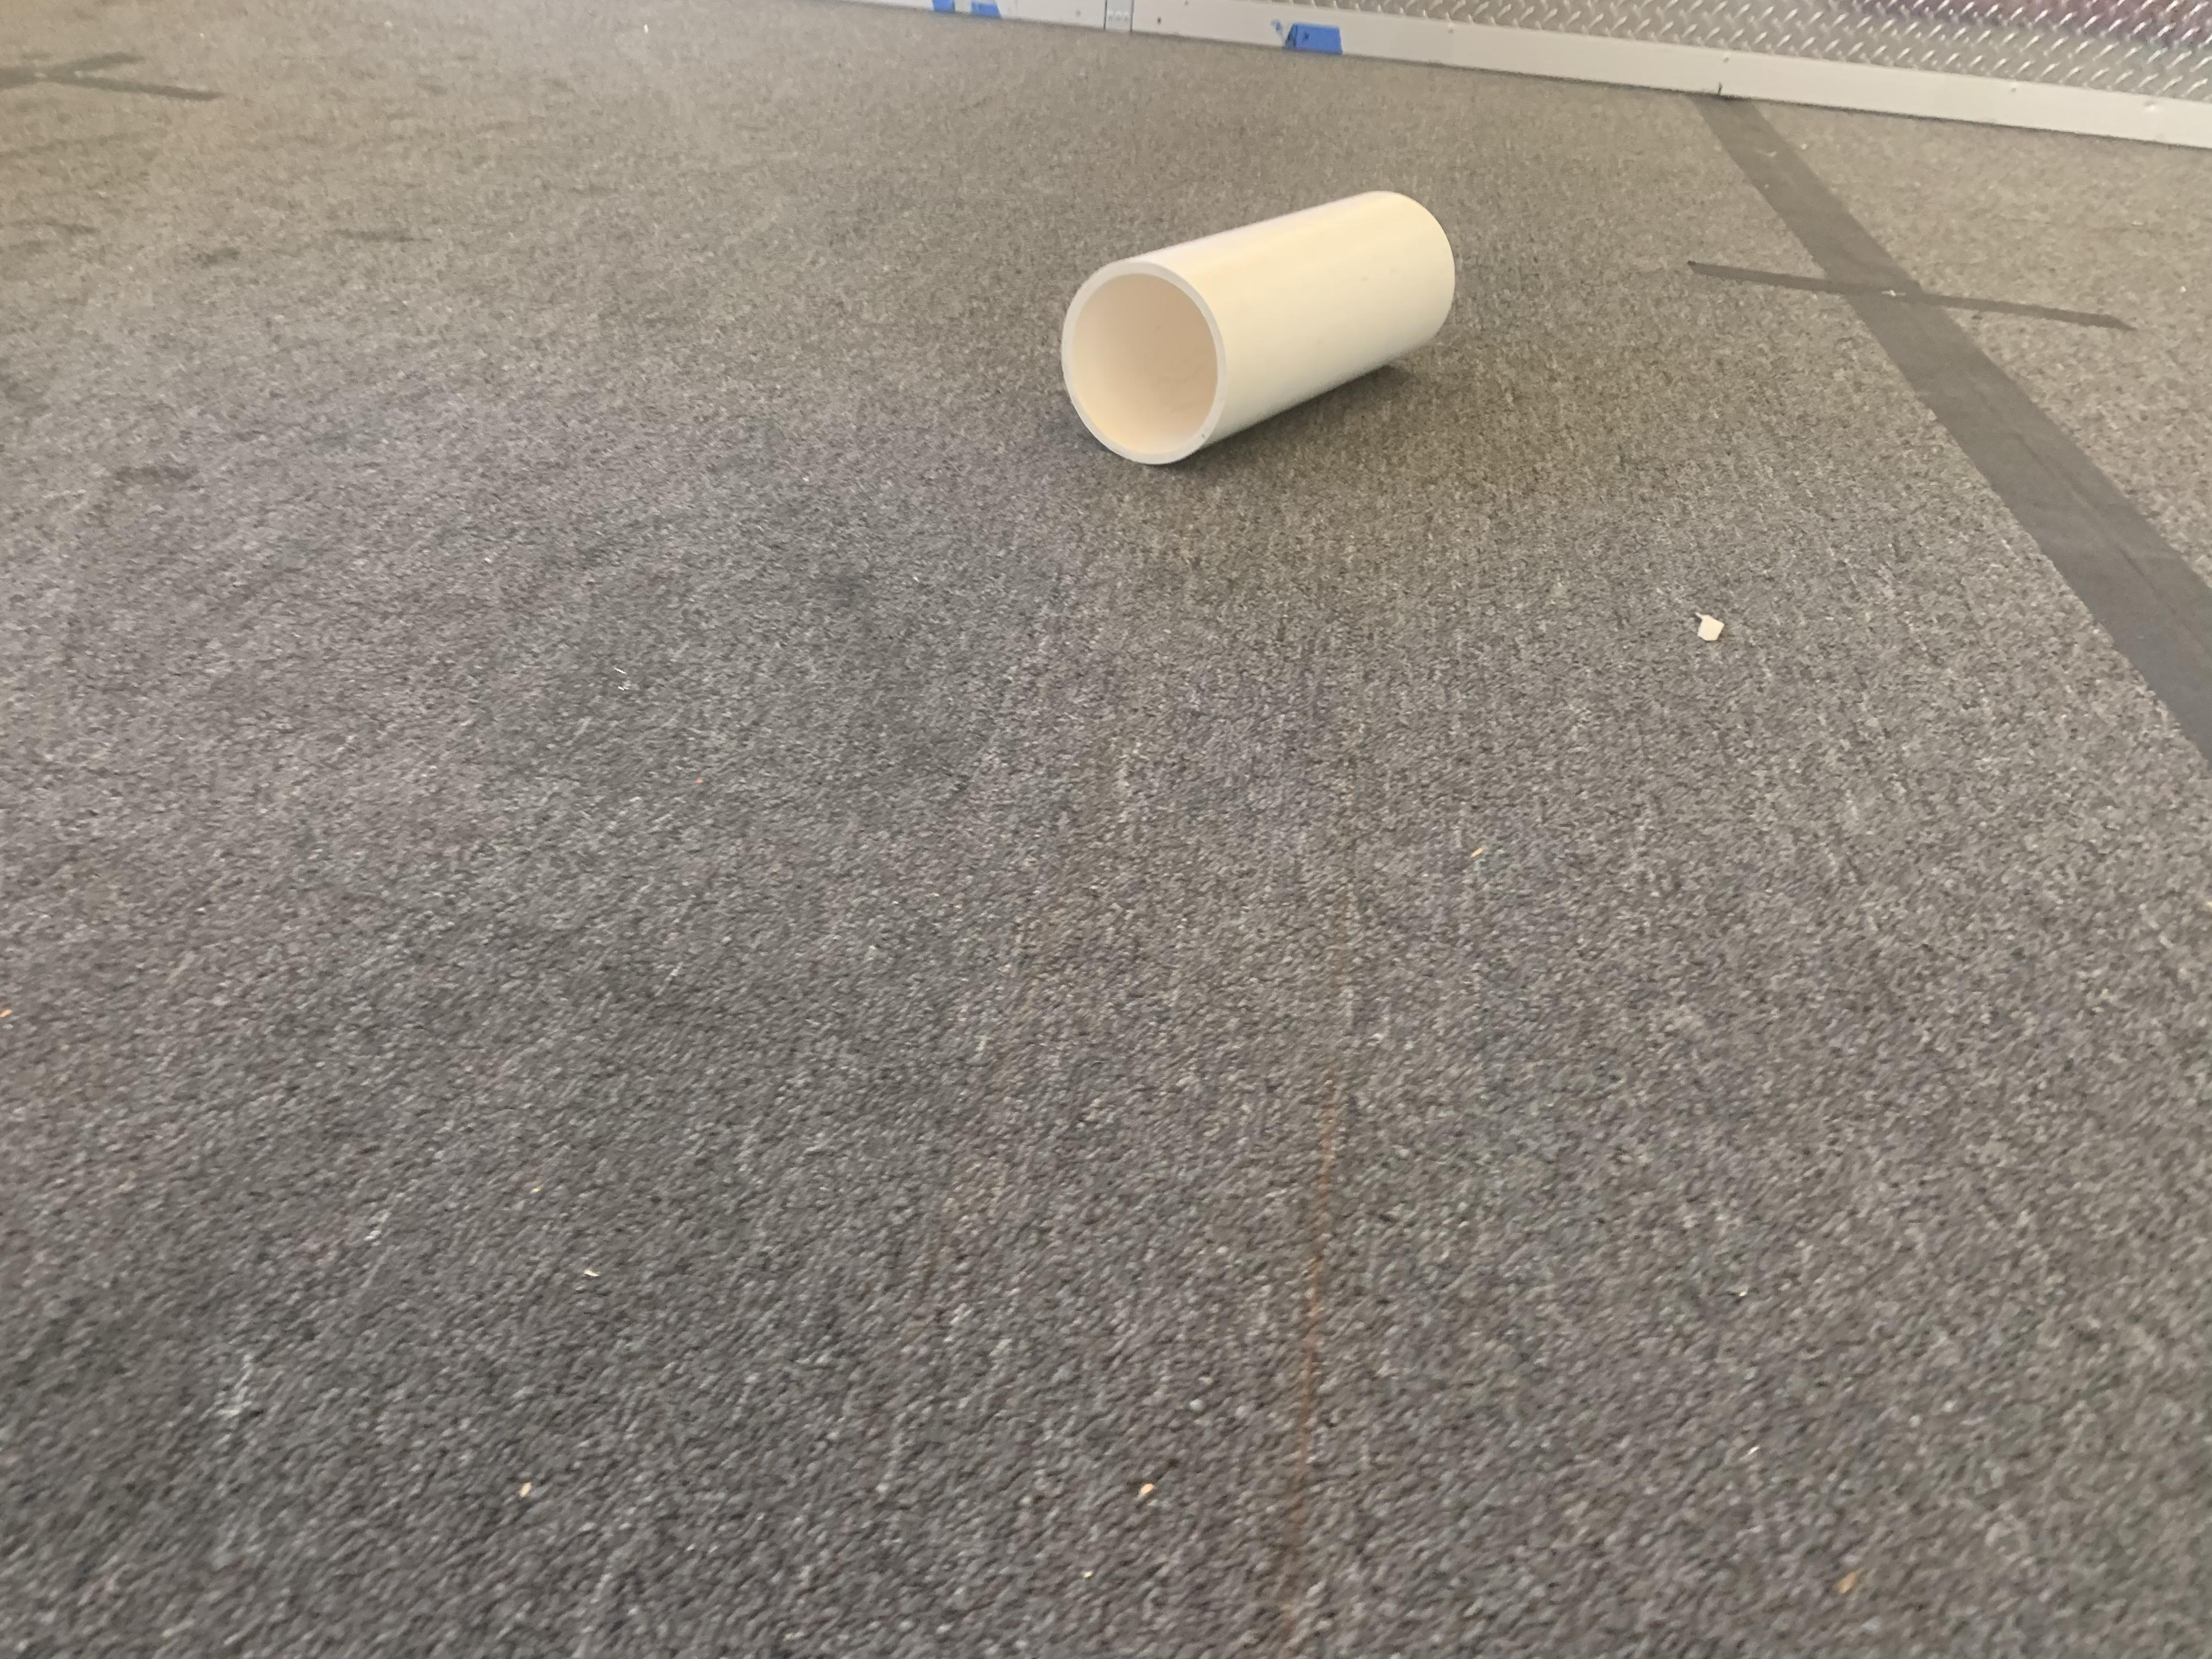coral: (1055, 185, 1460, 467)
